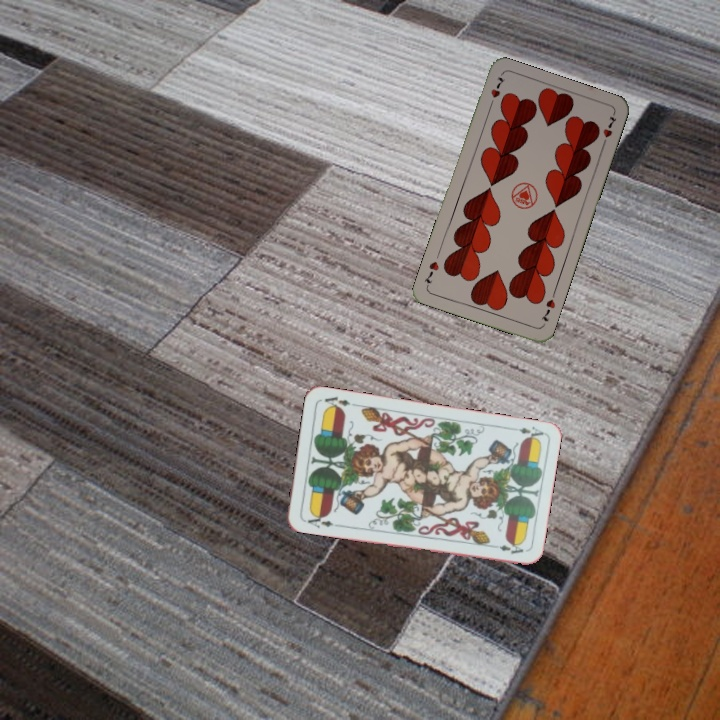EA: (506, 423, 546, 443), (300, 509, 336, 531)
H7: (485, 73, 507, 111), (537, 295, 558, 324)
